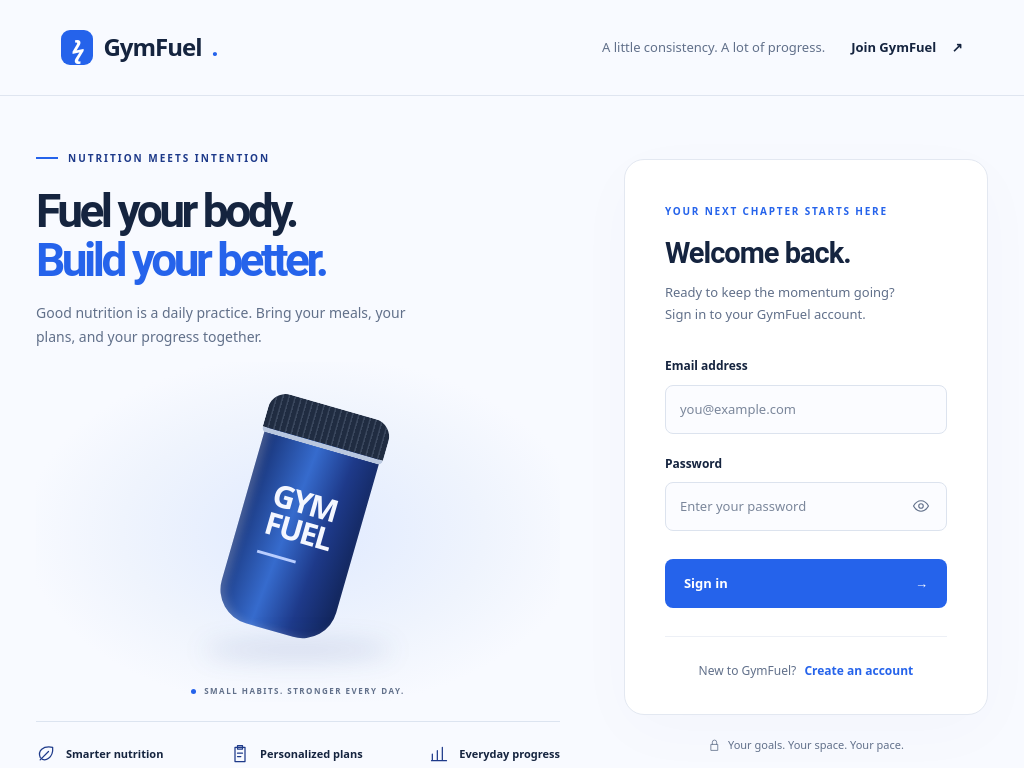
it: password visibility control preserves the entered value
This screenshot has width=1024, height=768.
Type "test-password" into the password field labelled "Password".
click(806, 506); type("test-password")  # box [665,482,947,531]
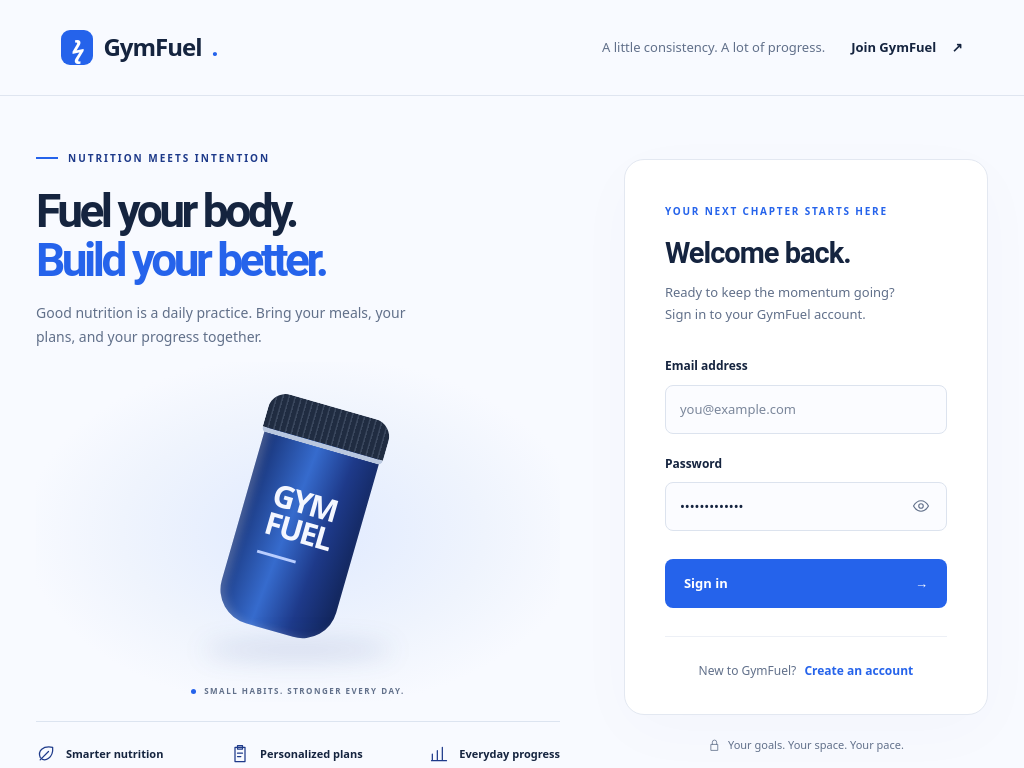
Click the button named "Show password".
click(922, 506)  # box [904,489,939,524]
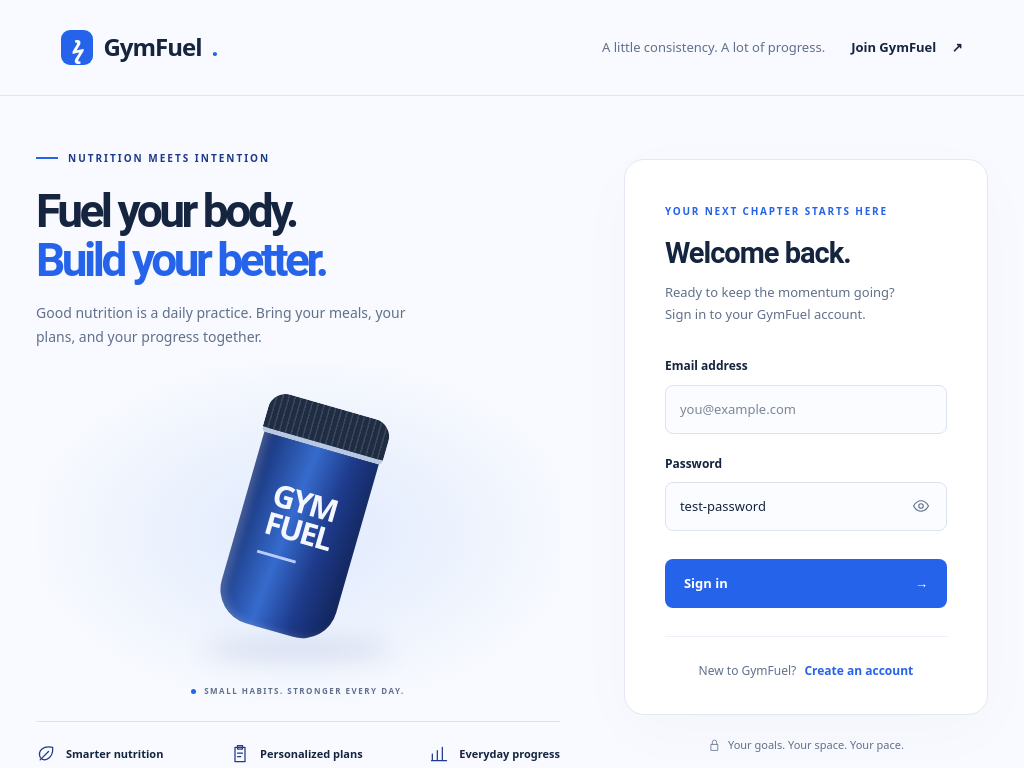
Result: the field labelled "Password" shows its text at [665,482,947,531]
Click the button named "Hide password".
click(922, 506)  # box [904,489,939,524]
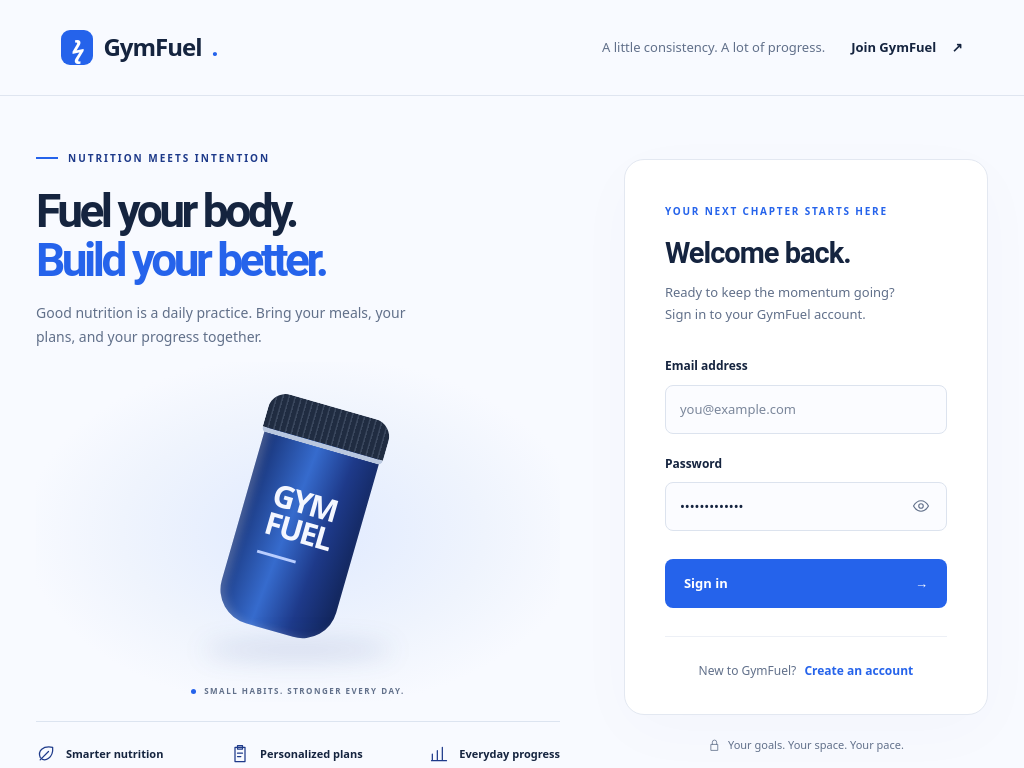
Result: the password field labelled "Password" hides its text at [665,482,947,531]
